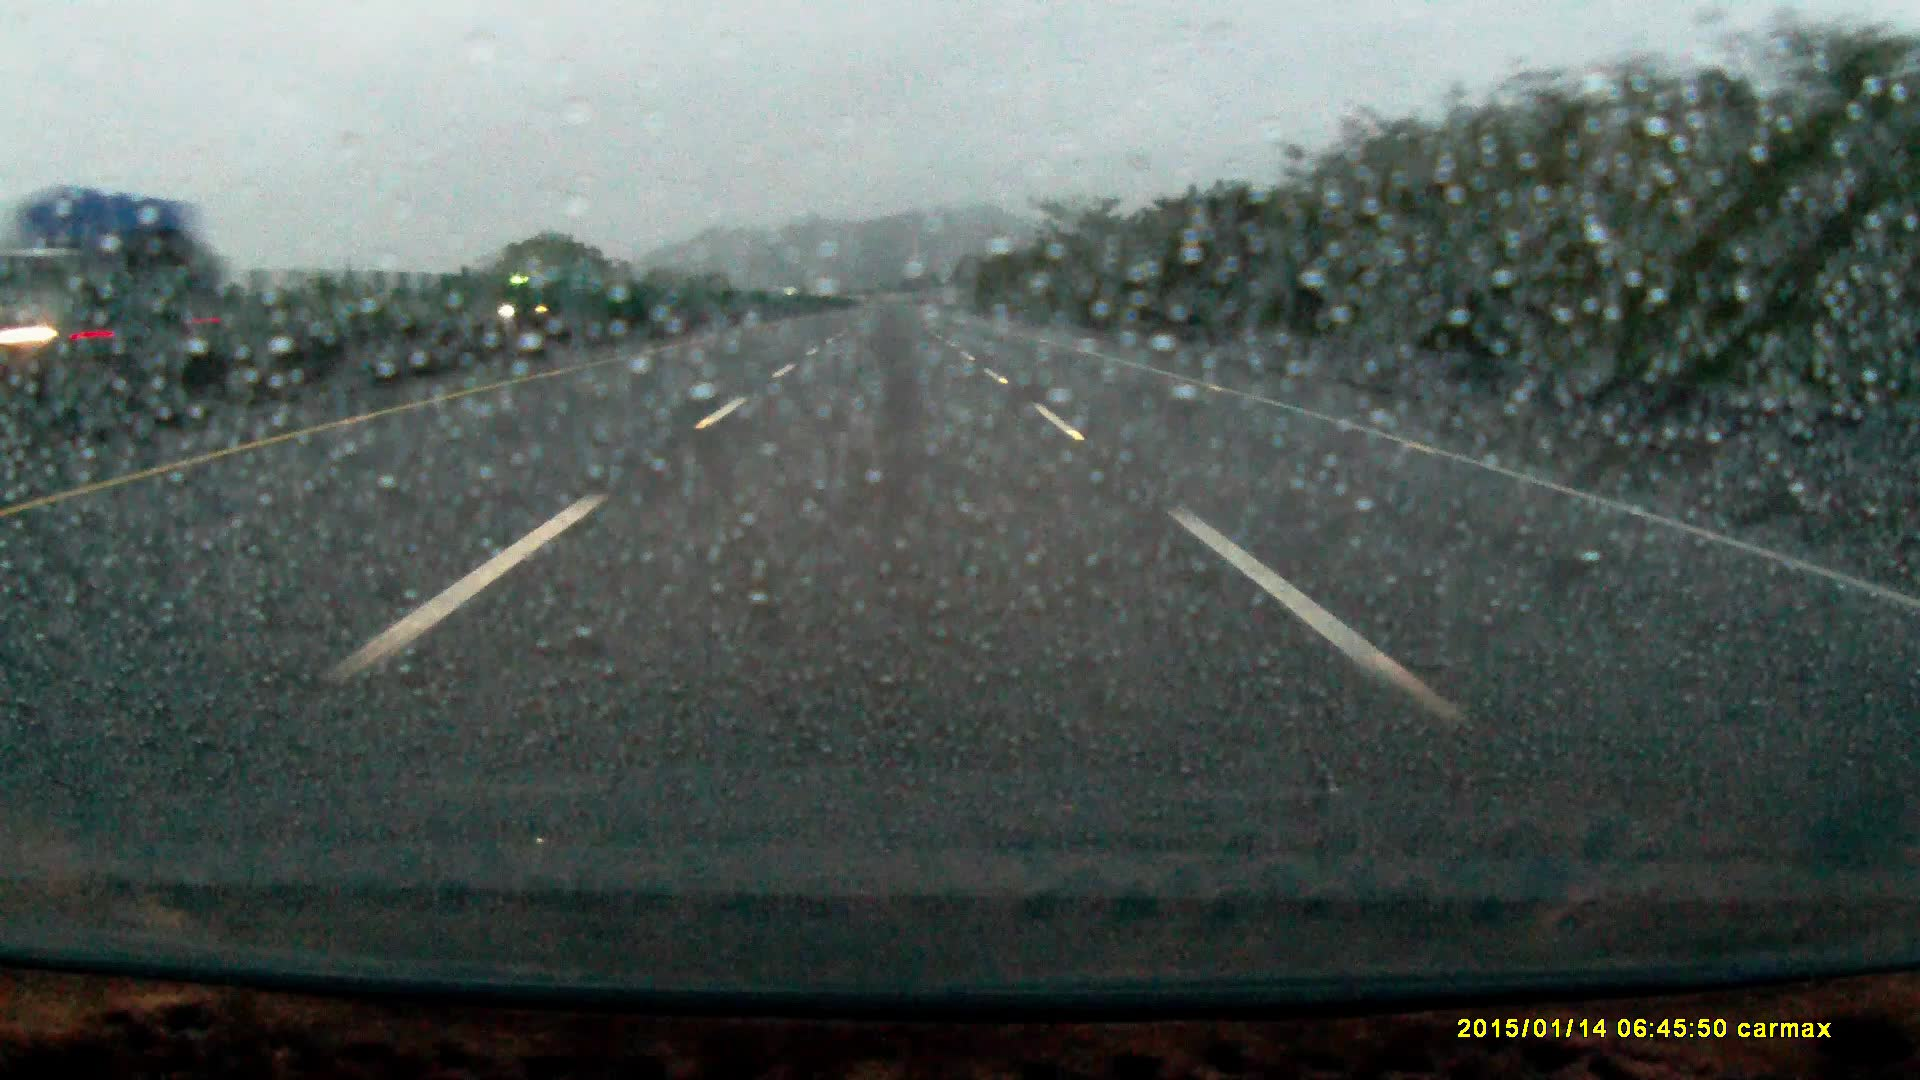vehicle: (1, 193, 191, 369), (496, 262, 600, 332)
